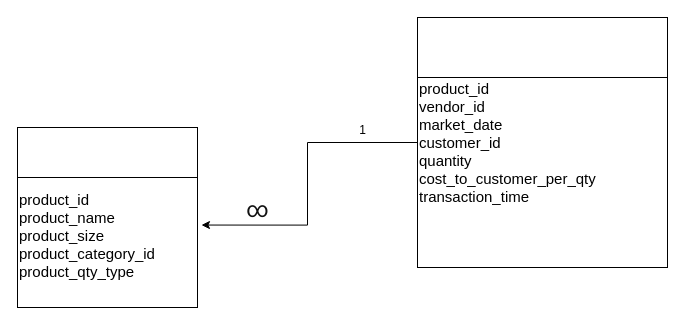
The diagram is 685 pixels wide and 325 high, and some of its shapes have lost their labels. The shapes that lost their labels are listed below. From the top down, each one's centre as x and y in pixels, then its label:
At point (542, 47): "customer_purchases".
At point (107, 152): "product".
